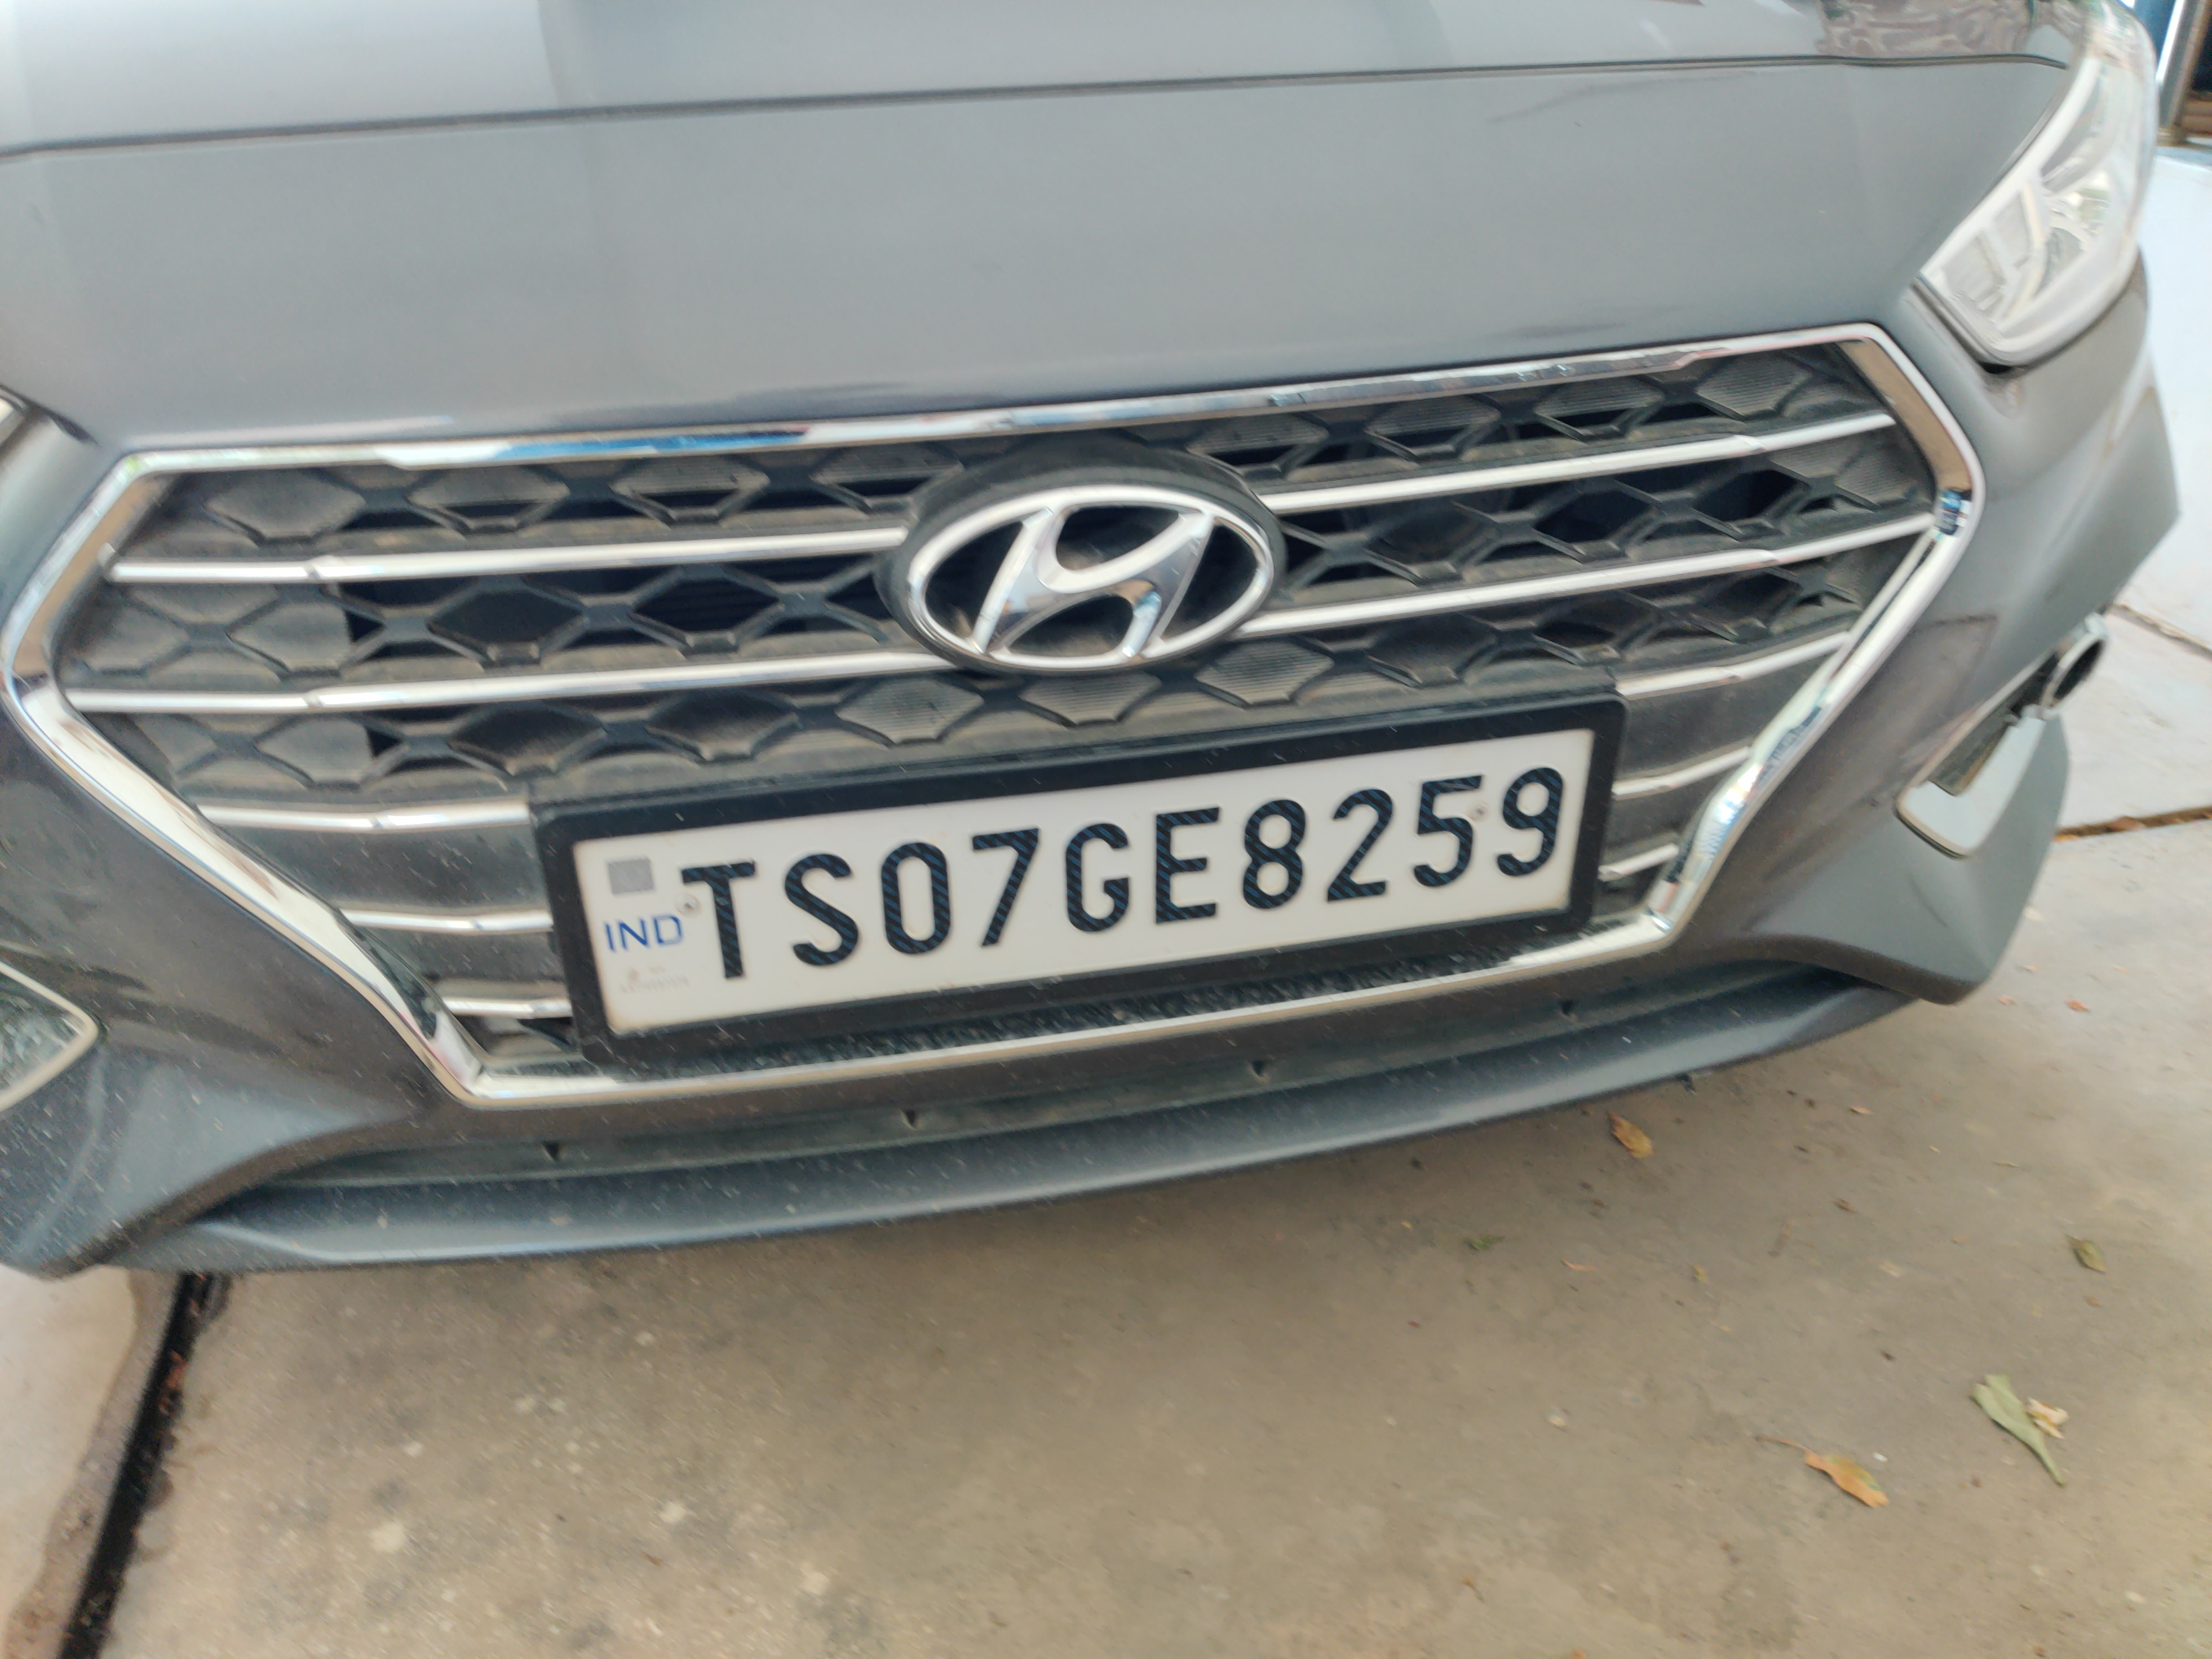plate: (512, 675, 1631, 1057)
